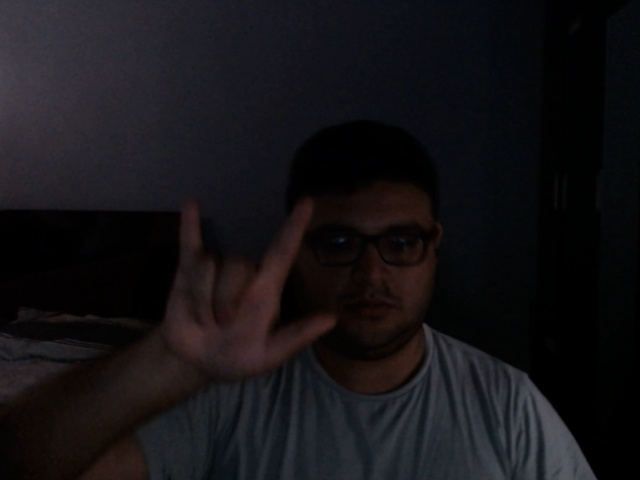I love you: (162, 191, 344, 389)
